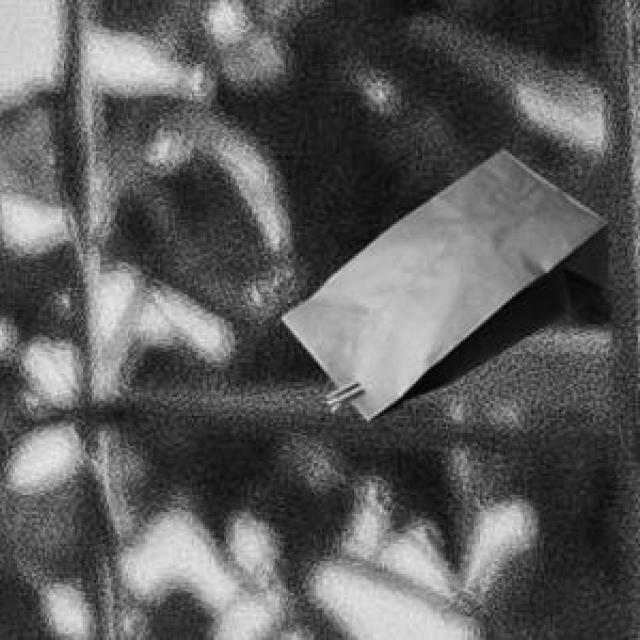paper: (277, 145, 603, 416)
